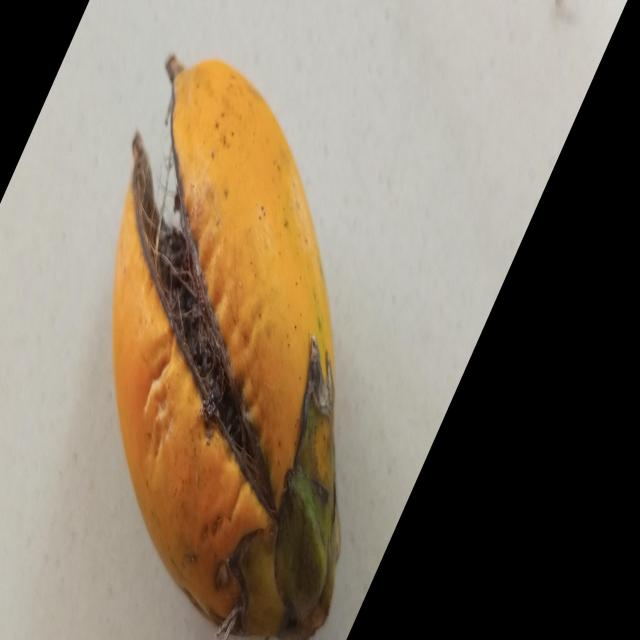damaged: (112, 57, 340, 640)
